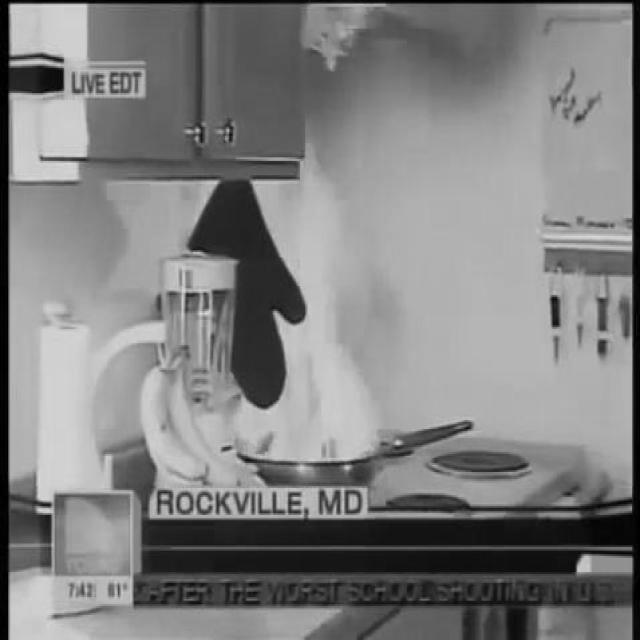smoke: (238, 130, 384, 460), (304, 4, 396, 80)
